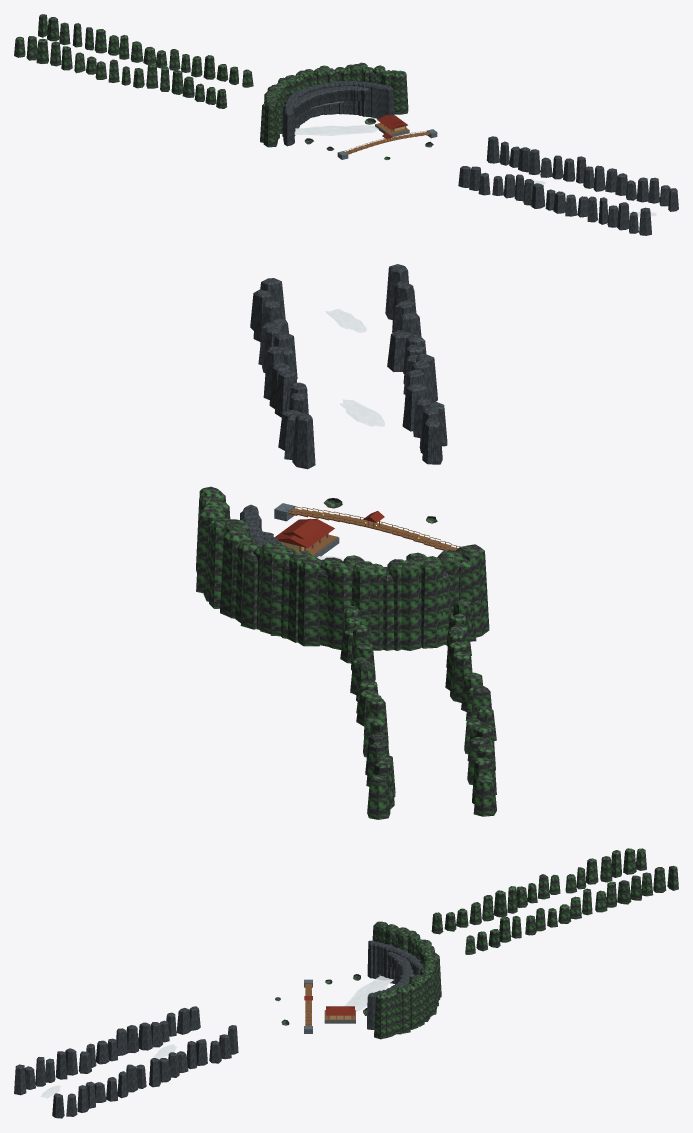
The model's file is cliff_thac_prenn_curtain_grotto.glb.
3 views of the same model, one above another, from view 1: azimuth 30°, elevation 25°; view 2: azimuth 150°, elevation 25°; view 3: azimuth 270°, elevation 25° (orthographic). The views are drawn at different scales.
Parts seen in each view (by area): view 1: Prenn_Horseshoe_Columnar_Basalt_Cliff, Prenn_Mossy_Valley_Flanks_And_Boulders, Prenn_Plunge_Pool_White_Foam, Prenn_Arched_Footbridge_And_Pavilion_Timber; view 2: Prenn_Mossy_Valley_Flanks_And_Boulders, Prenn_Horseshoe_Columnar_Basalt_Cliff, Prenn_Arched_Footbridge_And_Pavilion_Timber, Prenn_Plunge_Pool_White_Foam, Prenn_Teahouse_Curved_Tile_Roof; view 3: Prenn_Mossy_Valley_Flanks_And_Boulders, Prenn_Horseshoe_Columnar_Basalt_Cliff, Prenn_Plunge_Pool_White_Foam.
Boxes of the visible parts, x1,y1,x2,y2 form: Prenn_Horseshoe_Columnar_Basalt_Cliff: [282, 80, 678, 235]; Prenn_Mossy_Valley_Flanks_And_Boulders: [14, 14, 433, 159]; Prenn_Plunge_Pool_White_Foam: [294, 125, 656, 216]; Prenn_Arched_Footbridge_And_Pavilion_Timber: [344, 123, 431, 154]; Prenn_Mossy_Valley_Flanks_And_Boulders: [196, 486, 496, 819]; Prenn_Horseshoe_Columnar_Basalt_Cliff: [240, 264, 447, 569]; Prenn_Arched_Footbridge_And_Pavilion_Timber: [286, 505, 460, 556]; Prenn_Plunge_Pool_White_Foam: [317, 309, 384, 560]; Prenn_Teahouse_Curved_Tile_Roof: [275, 511, 384, 547]; Prenn_Mossy_Valley_Flanks_And_Boulders: [275, 848, 678, 1039]; Prenn_Horseshoe_Columnar_Basalt_Cliff: [14, 940, 422, 1118]; Prenn_Plunge_Pool_White_Foam: [40, 975, 393, 1098].
Size of the model in its own units: 377 by 62.58 by 521.
9 materials, 7 textured.
